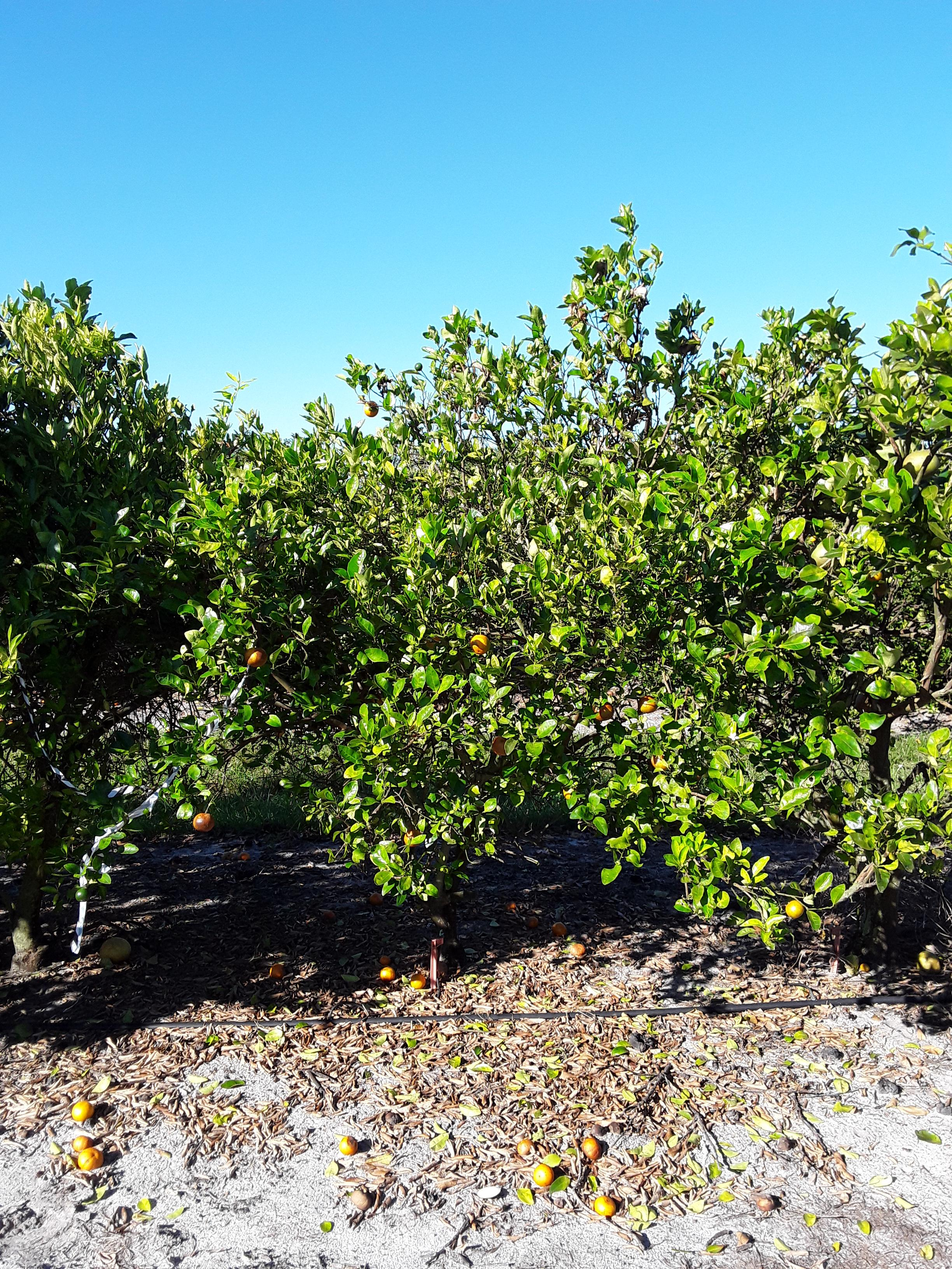fruit_on_ground: (806, 535, 842, 571), (904, 449, 947, 478), (584, 701, 617, 722), (861, 564, 891, 586), (634, 694, 661, 717), (191, 811, 217, 834), (651, 747, 675, 771), (468, 631, 491, 656), (399, 829, 427, 848), (785, 897, 805, 921), (245, 645, 264, 670), (490, 735, 511, 757), (427, 634, 450, 653), (363, 399, 383, 419), (72, 887, 94, 905), (413, 361, 430, 374)
fruit_on_tree: (100, 936, 134, 968), (350, 1184, 378, 1217), (592, 1190, 620, 1223), (913, 949, 945, 977), (77, 1147, 108, 1173), (626, 1031, 655, 1056), (876, 1077, 905, 1101), (338, 1133, 362, 1162), (71, 1098, 95, 1125), (818, 1044, 846, 1067), (581, 1134, 604, 1162), (70, 1135, 102, 1153), (756, 1192, 780, 1215), (515, 1135, 537, 1160), (532, 1163, 554, 1188), (378, 963, 399, 987), (932, 1100, 952, 1118), (550, 921, 571, 938), (410, 972, 427, 993), (855, 957, 872, 977), (268, 963, 288, 980), (385, 1110, 404, 1127), (525, 914, 545, 928), (571, 941, 585, 958), (367, 892, 384, 905), (592, 1126, 608, 1138), (504, 899, 517, 913), (322, 909, 338, 920), (238, 849, 250, 863), (379, 954, 393, 966)
